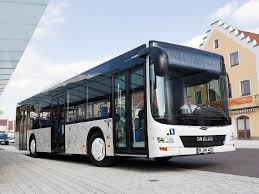entrance: (111, 66, 150, 156)
